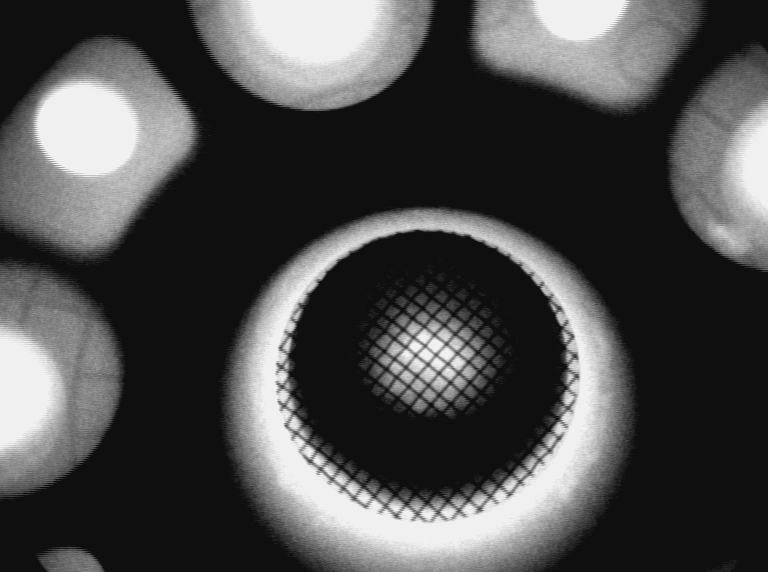defect: (696, 209, 751, 264)
